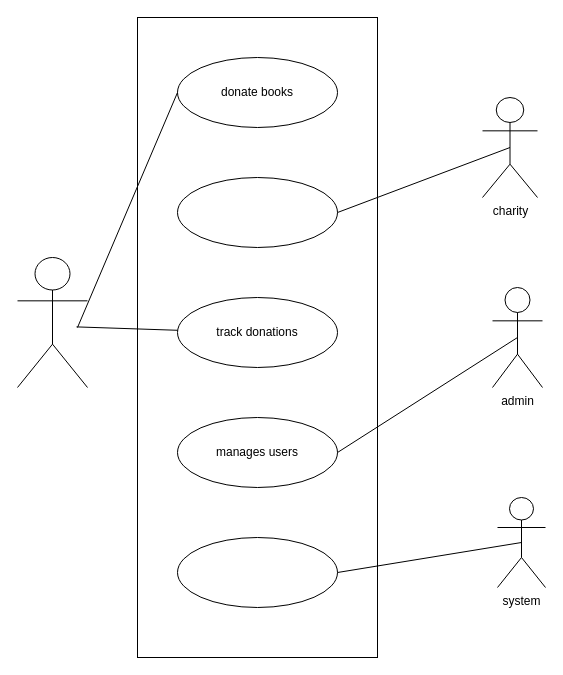
Some shapes in this 563 by 675 pixel diagram are drawn without their labels. The shapes that lost their labels are listed below. From the top down, each one's box as (x1, y1, x2, y2) in pixels, then its label:
(176, 176, 338, 248): donation options
(16, 256, 88, 388): Donor
(176, 536, 338, 608): sents updates
